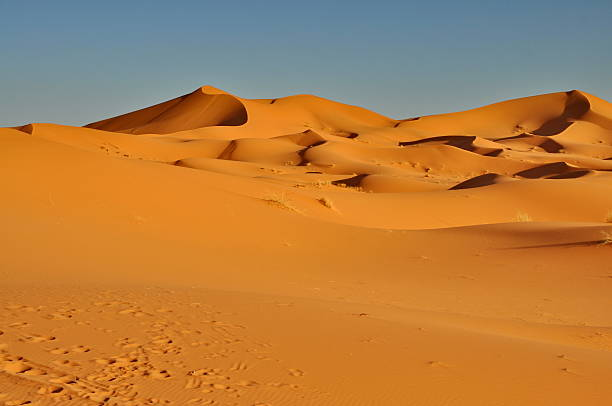animal_foot_print: (0, 291, 309, 405), (0, 344, 170, 404), (0, 353, 117, 401), (184, 364, 299, 398), (90, 351, 171, 381), (4, 302, 85, 327), (0, 372, 55, 405), (185, 368, 234, 392), (0, 350, 45, 375), (145, 335, 181, 353), (43, 307, 84, 320), (37, 384, 66, 399), (202, 346, 234, 359), (48, 345, 91, 354), (2, 360, 31, 373), (114, 337, 141, 348), (20, 334, 55, 342), (98, 142, 121, 154), (4, 304, 43, 311), (117, 308, 151, 316), (267, 381, 300, 389), (188, 368, 220, 375), (52, 359, 80, 367), (92, 300, 129, 306), (186, 398, 216, 405), (147, 369, 170, 378), (3, 399, 37, 405), (22, 367, 46, 375), (44, 312, 71, 319), (151, 336, 172, 345), (184, 377, 201, 388), (427, 360, 450, 368), (235, 379, 258, 387), (7, 321, 29, 328), (48, 347, 69, 354), (177, 329, 201, 335), (70, 345, 90, 352), (230, 362, 247, 370), (169, 360, 186, 368), (288, 368, 303, 376), (94, 327, 113, 332), (155, 307, 172, 312), (252, 402, 271, 405), (0, 392, 8, 399), (0, 343, 7, 350), (0, 330, 3, 335)
